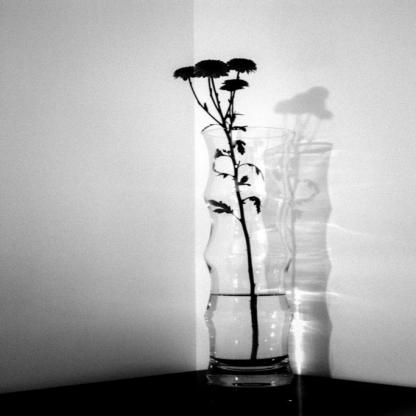vase: (200, 125, 294, 393)
